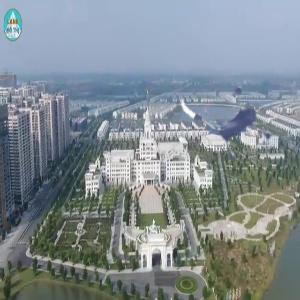drone: (178, 58, 292, 172)
